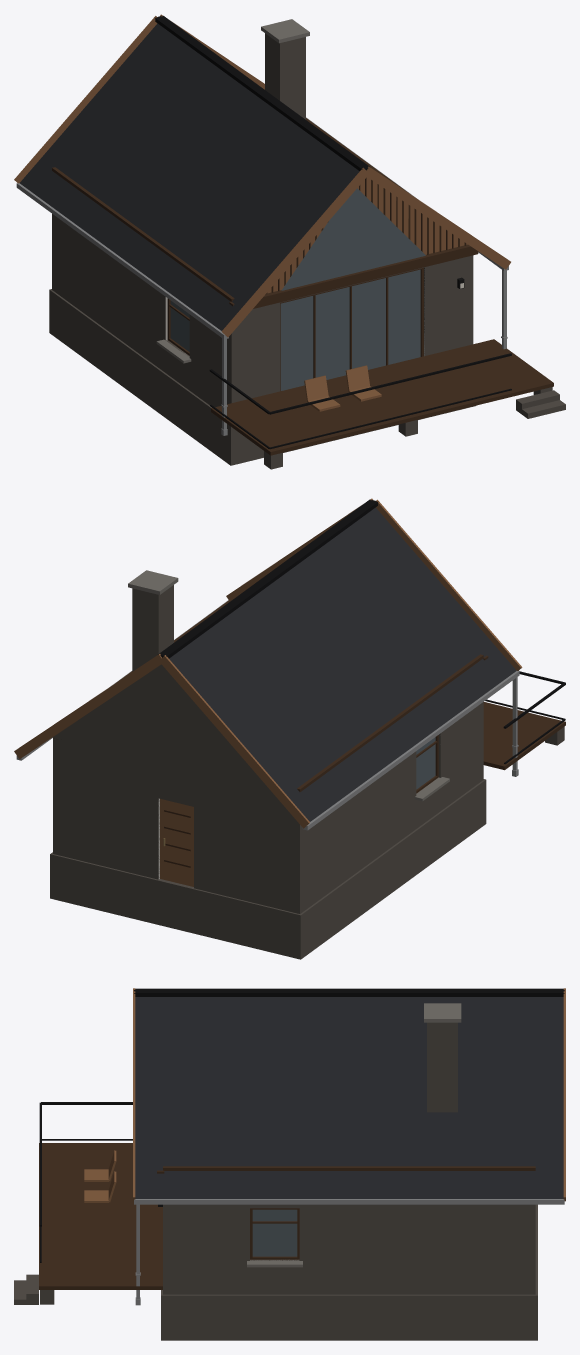
Rendered from hill_cottage_7x9_1_far.glb.
3 views of the same model, one above another, from view 1: azimuth 30°, elevation 25°; view 2: azimuth 150°, elevation 25°; view 3: azimuth 270°, elevation 25° (orthographic). The views are drawn at different scales.
Visible parts, largest first — view 1: hill_cottage_7x9_1; view 2: hill_cottage_7x9_1; view 3: hill_cottage_7x9_1.
Boxes of the visible parts, x1,y1,x2,y2 form: hill_cottage_7x9_1: (14,14,565,469); hill_cottage_7x9_1: (14,498,565,959); hill_cottage_7x9_1: (14,988,565,1340).
Bounding box in the file's own units: 8.36 × 8.04 × 13.33.
